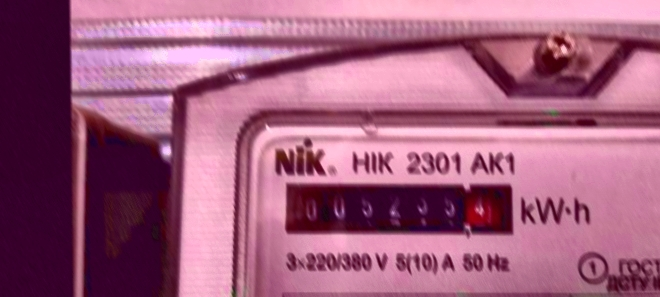0: (303, 196, 319, 222), (331, 194, 346, 219)
2: (386, 192, 401, 217)
3: (414, 190, 429, 215)
4: (471, 193, 487, 219)
5: (441, 191, 457, 218), (358, 193, 374, 219)
screen: (275, 173, 524, 245)
